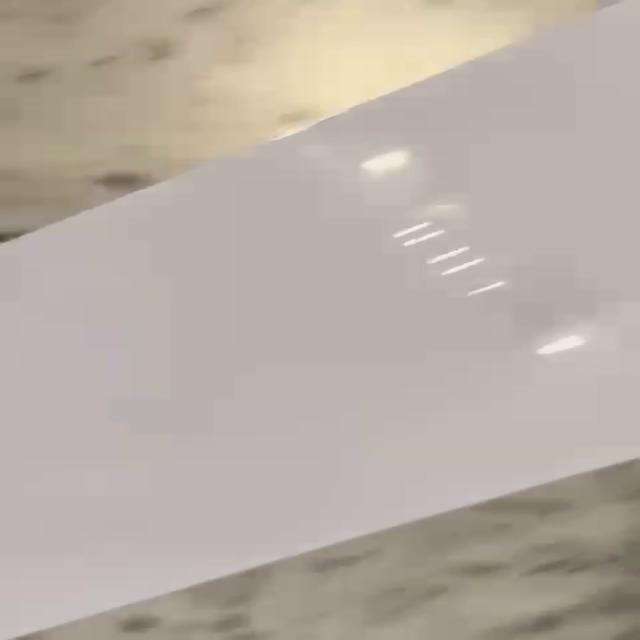road: (0, 0, 640, 640)
